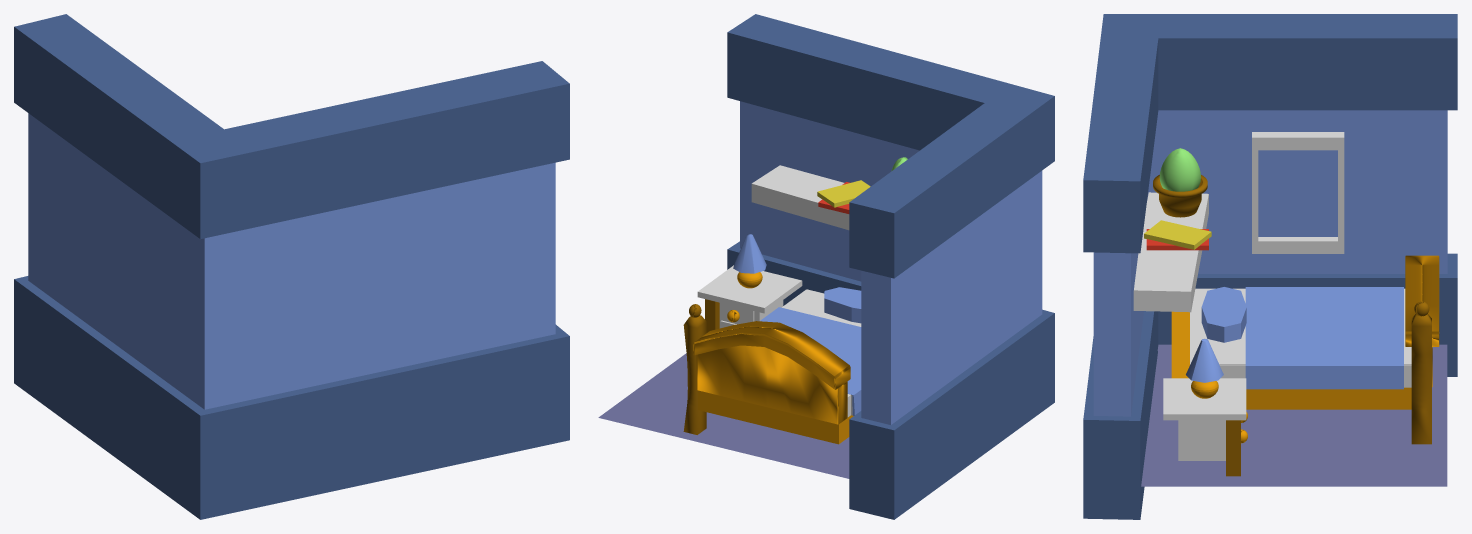
The model's file is bedroom.gltf.
3 views of the same model, side by side, from view 1: azimuth 30°, elevation 25°; view 2: azimuth 150°, elevation 25°; view 3: azimuth 270°, elevation 25° (orthographic). The views are drawn at different scales.
Parts seen in each view (by area): view 1: Cube; view 2: Cube, Plane.004, Plane, Cube.002, Plane.002, Cube.003, Cube.005, Plane.003, Cube.007, Cube.004, Plane.012, Plane.010; view 3: Cube, Plane, Cube.005, Cube.001, Cube.002, Plane.002, Cube.003, Plane.003, Cube.004, Plane.004, Cube.007, Cylinder.001 (+5 smaller).
Part boxes in pixels (left/top/right/bottom): Cube: left=14, top=14, right=569, bottom=519; Cube: left=727, top=14, right=1054, bottom=519; Plane.004: left=693, top=321, right=850, bottom=424; Plane: left=598, top=353, right=849, bottom=478; Cube.002: left=751, top=165, right=849, bottom=230; Plane.002: left=697, top=265, right=802, bottom=328; Cube.003: left=698, top=390, right=853, bottom=444; Cube.005: left=760, top=307, right=861, bottom=415; Plane.003: left=683, top=304, right=706, bottom=434; Cube.007: left=824, top=287, right=861, bottom=323; Cube.004: left=782, top=289, right=861, bottom=417; Plane.012: left=733, top=234, right=766, bottom=273; Plane.010: left=817, top=180, right=870, bottom=207; Cube: left=1083, top=14, right=1457, bottom=519; Plane: left=1141, top=351, right=1447, bottom=486; Cube.005: left=1245, top=287, right=1403, bottom=389; Cube.001: left=1252, top=132, right=1344, bottom=253; Cube.002: left=1133, top=192, right=1208, bottom=312; Plane.002: left=1163, top=378, right=1246, bottom=460; Cube.003: left=1171, top=311, right=1411, bottom=409; Plane.003: left=1411, top=301, right=1431, bottom=444; Cube.004: left=1190, top=288, right=1411, bottom=387; Plane.004: left=1405, top=255, right=1439, bottom=386; Cube.007: left=1201, top=287, right=1246, bottom=342; Cylinder.001: left=1159, top=148, right=1200, bottom=191.
Size of what is drawn, in the model's own units: 2.37 by 2.24 by 2.24.
